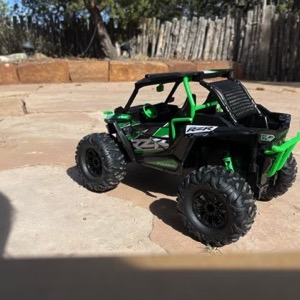polaris: (75, 70, 298, 246)
